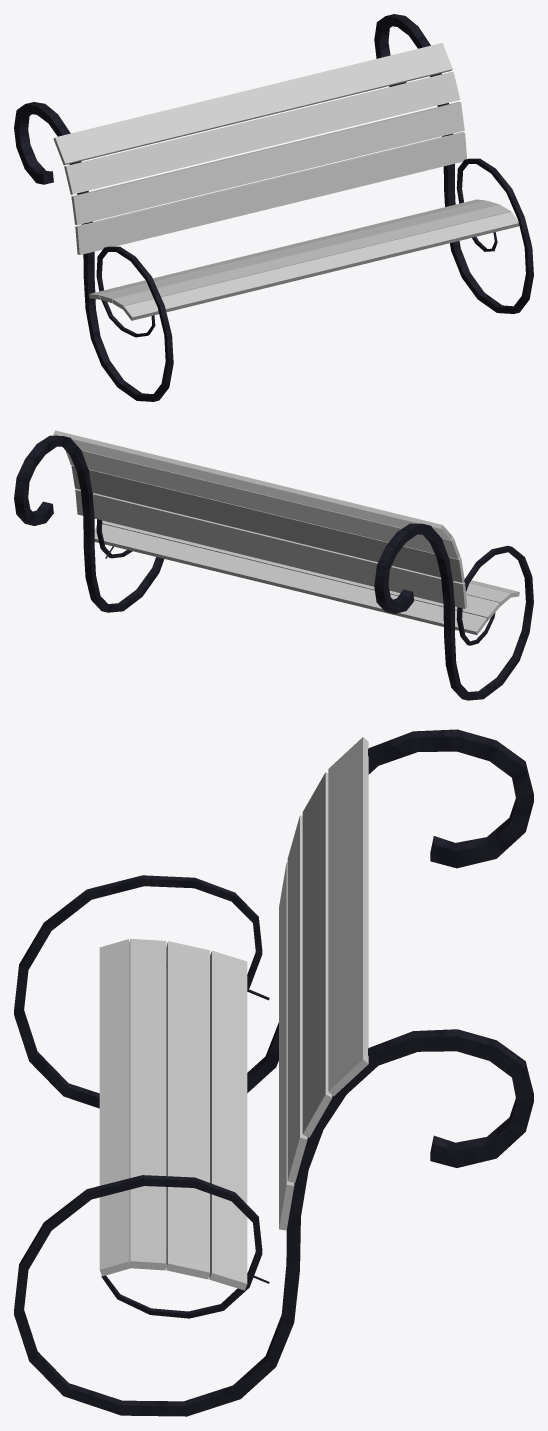
Rendered from Bench_01.fbx.
3 renders of one model, top to bottom at view 1: azimuth 30°, elevation 25°; view 2: azimuth 150°, elevation 25°; view 3: azimuth 270°, elevation 25°, orthographic. The views are drawn at different scales.
Parts seen in each view (by area): view 1: polySurface5; view 2: polySurface5; view 3: polySurface5.
Boxes of the visible parts, x1=… form: polySurface5: x1=14, y1=14, x2=533, y2=401; polySurface5: x1=14, y1=430, x2=533, y2=700; polySurface5: x1=14, y1=729, x2=533, y2=1416.
Size of the model in its own units: 15.06 by 8.3 by 10.26.
